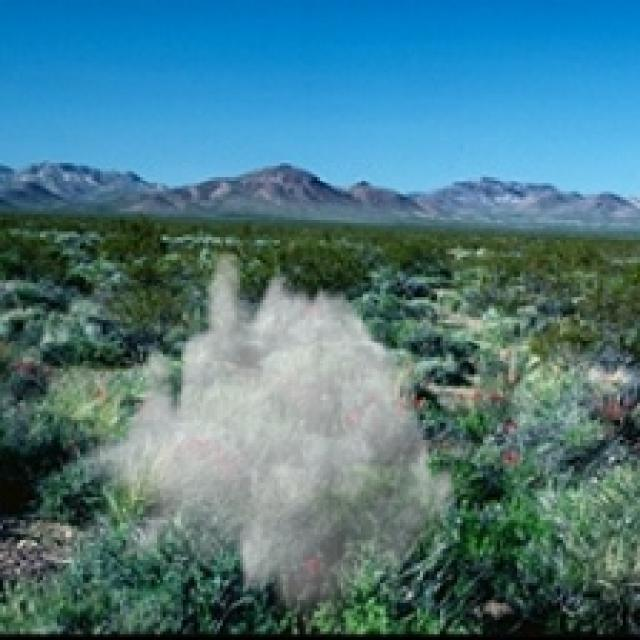smoke: (86, 243, 460, 634)
